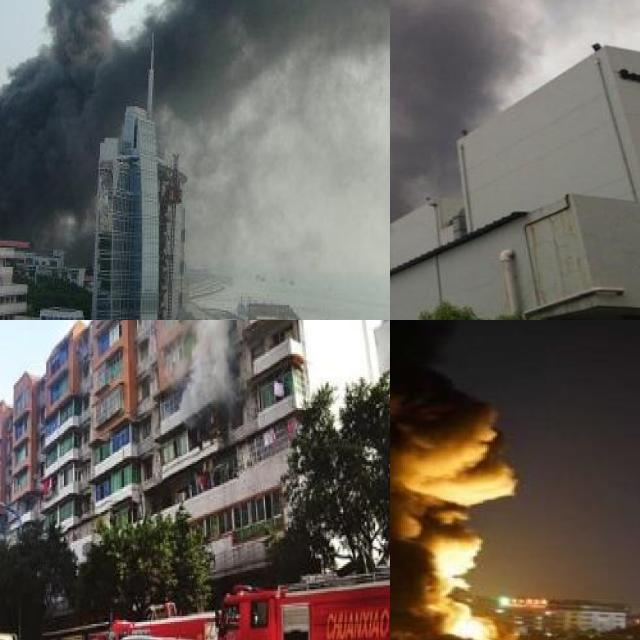smoke: (0, 0, 390, 221), (390, 320, 555, 640), (390, 0, 519, 122), (184, 320, 240, 400)
